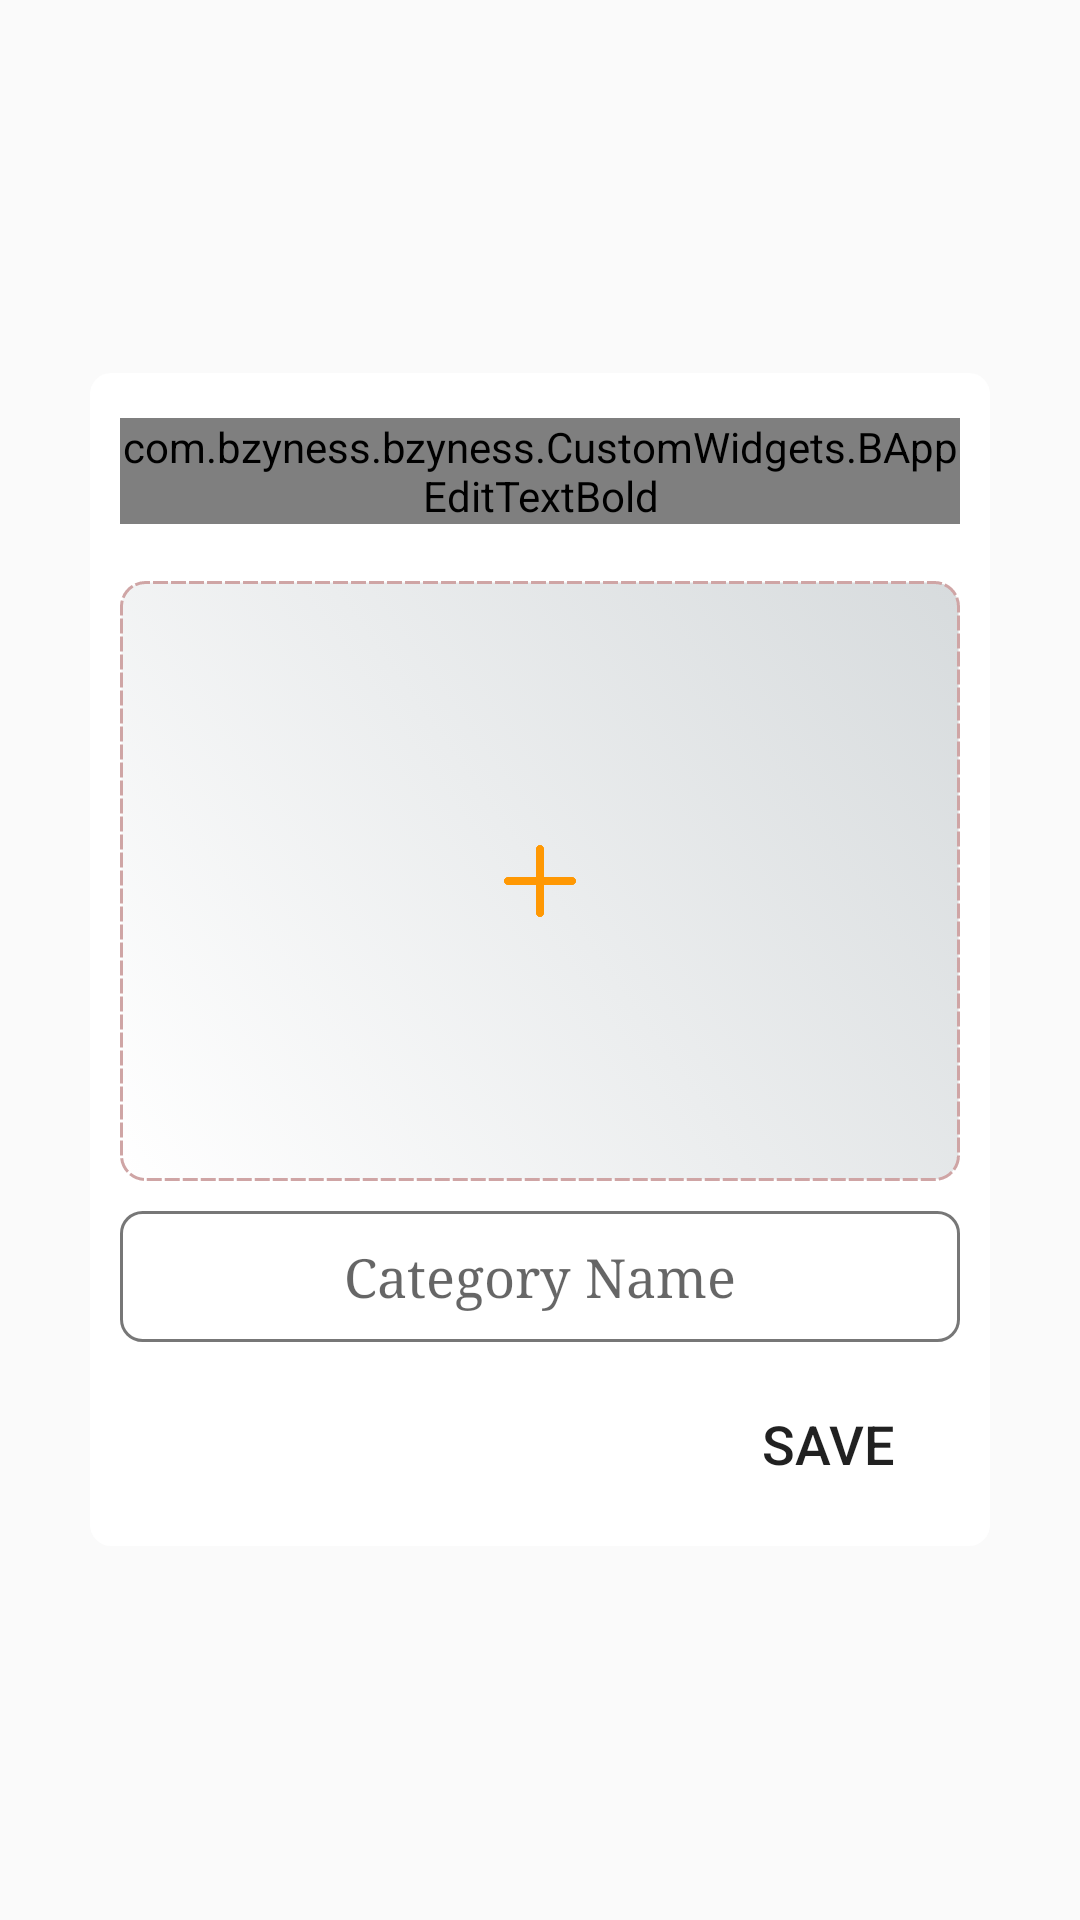

Where to tap for icons on this 1080w x 1920h app screen, as [x,y]:
plus: [540,881]
